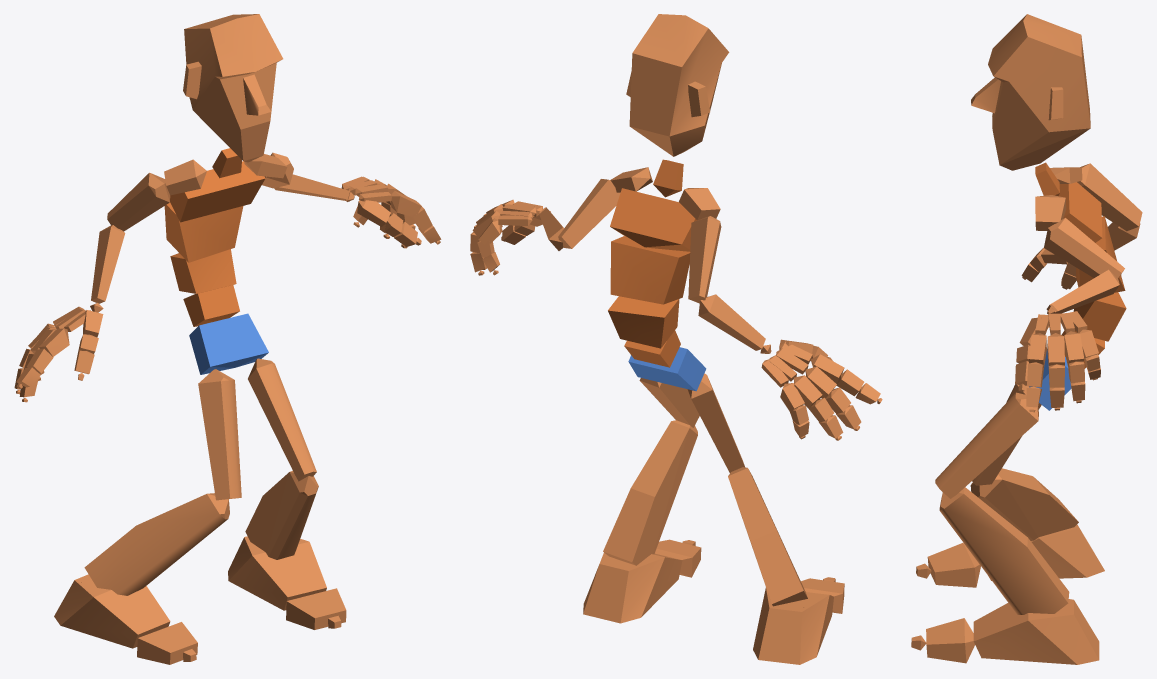
3 views of the same model, side by side, from view 1: azimuth 30°, elevation 25°; view 2: azimuth 150°, elevation 25°; view 3: azimuth 270°, elevation 25° (orthographic). The views are drawn at different scales.
Visible parts, largest first — view 1: BOPED_Head, BOPED_R_leg, BOPED_R_foot, BOPED_R_foot01, BOPED_R_legup, BOPED_L_leg, BOPED_L_legup, Bone01, Bone04, Bone05, Bone03, BOPED_R_arm_upper (+8 smaller); view 2: BOPED_Head, BOPED_L_leg, BOPED_R_foot01, BOPED_R_foot, BOPED_R_leg, Bone04, Bone05, Bone03, BOPED_R_arm_upper, BOPED_R_legup, BOPED_L_arm_upper, Bone01 (+8 smaller); view 3: BOPED_Head, BOPED_L_leg, BOPED_R_foot01, BOPED_R_leg, BOPED_L_legup, BOPED_R_foot, BOPED_L_arm_upper, BOPED_R_arm_upper, BOPED_R_foot_toe01, BOPED_R_foot_toe04, Bone05, Bone03 (+14 smaller).
Part boxes in pixels (left/top/right/bottom): BOPED_Head: left=183, top=14, right=283, bottom=162; BOPED_R_leg: left=84, top=493, right=229, bottom=595; BOPED_R_foot: left=54, top=574, right=170, bottom=648; BOPED_R_foot01: left=228, top=536, right=326, bottom=610; BOPED_R_legup: left=198, top=369, right=241, bottom=500; BOPED_L_leg: left=245, top=471, right=318, bottom=559; BOPED_L_legup: left=248, top=358, right=316, bottom=481; Bone01: left=189, top=313, right=268, bottom=374; Bone04: left=164, top=202, right=243, bottom=262; Bone05: left=170, top=161, right=265, bottom=222; Bone03: left=170, top=249, right=236, bottom=293; BOPED_R_arm_upper: left=107, top=172, right=170, bottom=231; BOPED_Head: left=626, top=14, right=729, bottom=156; BOPED_L_leg: left=603, top=420, right=697, bottom=565; BOPED_R_foot01: left=583, top=552, right=682, bottom=623; BOPED_R_foot: left=753, top=588, right=833, bottom=664; BOPED_R_leg: left=728, top=467, right=807, bottom=606; Bone04: left=610, top=236, right=690, bottom=304; Bone05: left=610, top=188, right=696, bottom=251; Bone03: left=608, top=296, right=679, bottom=348; BOPED_R_arm_upper: left=688, top=216, right=721, bottom=303; BOPED_R_legup: left=687, top=373, right=744, bottom=472; BOPED_L_arm_upper: left=558, top=179, right=620, bottom=248; Bone01: left=628, top=347, right=706, bottom=391; BOPED_Head: left=971, top=14, right=1090, bottom=170; BOPED_L_leg: left=939, top=487, right=1069, bottom=614; BOPED_R_foot01: left=973, top=599, right=1099, bottom=664; BOPED_R_leg: left=970, top=468, right=1078, bottom=540; BOPED_L_legup: left=935, top=392, right=1038, bottom=498; BOPED_R_foot: left=988, top=524, right=1104, bottom=580; BOPED_L_arm_upper: left=1044, top=218, right=1124, bottom=278; BOPED_R_arm_upper: left=1077, top=163, right=1142, bottom=231; BOPED_R_foot_toe01: left=927, top=543, right=980, bottom=587; BOPED_R_foot_toe04: left=926, top=618, right=974, bottom=663; Bone05: left=1058, top=182, right=1102, bottom=242; Bone03: left=1073, top=292, right=1126, bottom=341.
Bounding box in the file's own units: 130 × 176 × 60.69.
